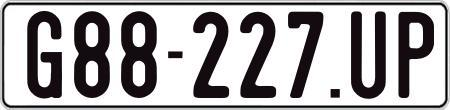2: (239, 10, 281, 102), (192, 11, 232, 103)
7: (286, 10, 322, 102)
8: (74, 8, 115, 101), (121, 8, 161, 97)
G: (26, 10, 67, 102)
P: (399, 9, 437, 99)
U: (350, 8, 389, 98)
